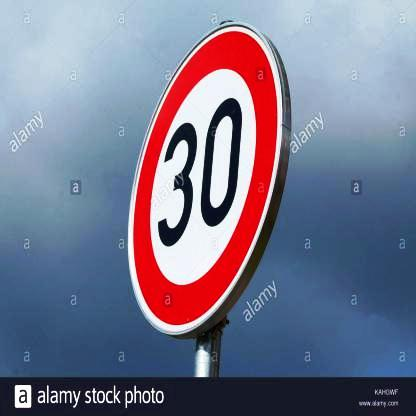Speed Limit -30-: (130, 19, 284, 342)
